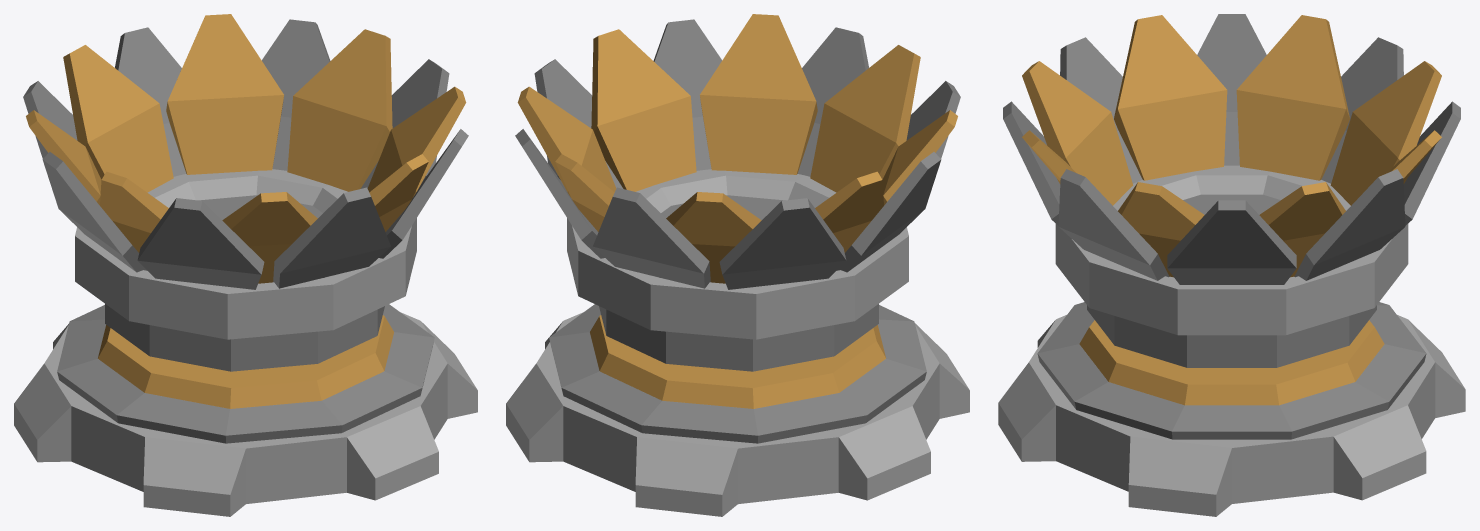
Rendered from Props_Teleporter_1.glb.
3 renders of one model, left to right at view 1: azimuth 30°, elevation 25°; view 2: azimuth 150°, elevation 25°; view 3: azimuth 270°, elevation 25°, orthographic.
Parts seen in each view (by area): view 1: Props_Teleporter_1; view 2: Props_Teleporter_1; view 3: Props_Teleporter_1.
Part boxes in pixels (left/top/right/bottom): Props_Teleporter_1: left=14, top=14, right=477, bottom=516; Props_Teleporter_1: left=506, top=14, right=969, bottom=516; Props_Teleporter_1: left=998, top=14, right=1465, bottom=516.
Bounding box in the file's own units: 1.21 × 0.9045 × 1.21.
